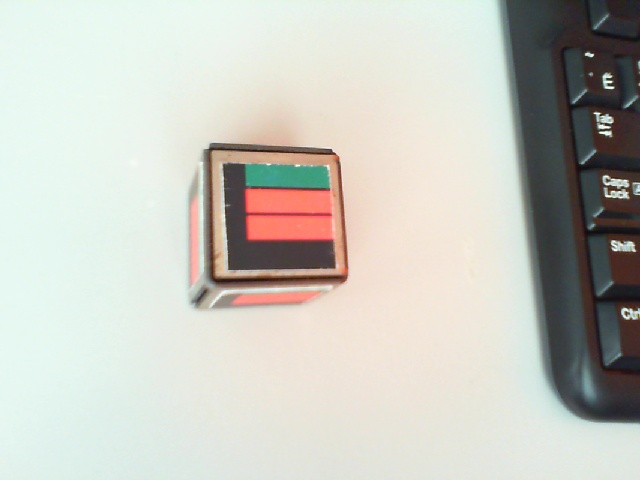square: (223, 163, 337, 269)
